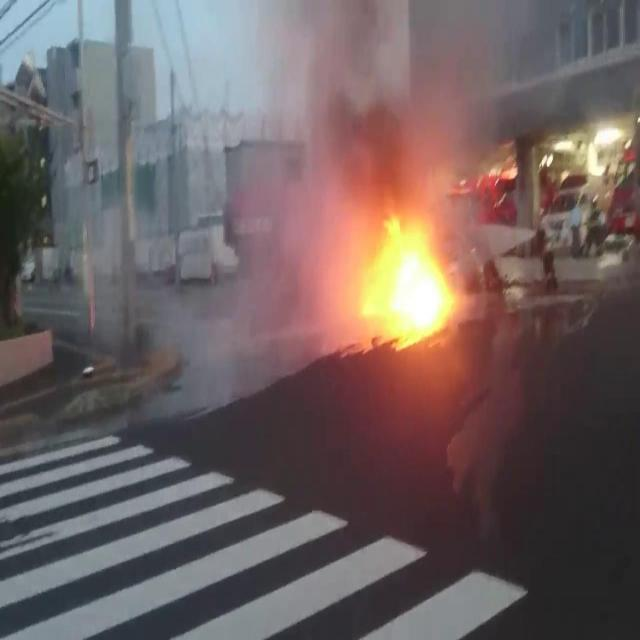fire: (359, 201, 458, 335)
